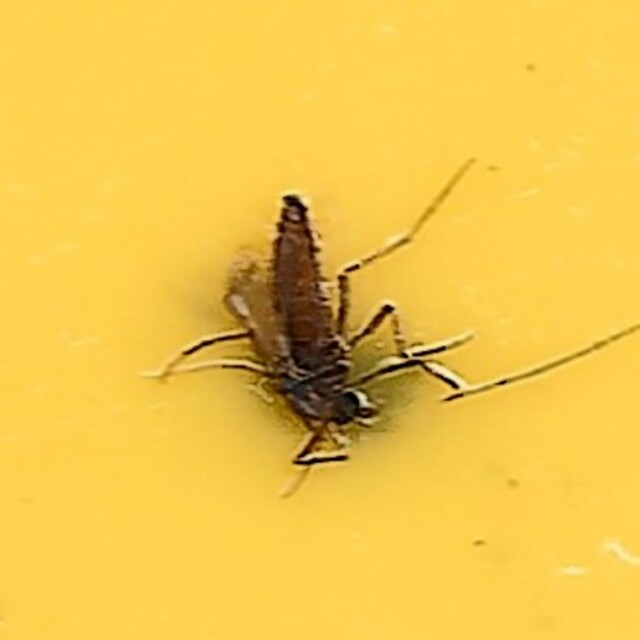Nematocera: (196, 177, 444, 463)
